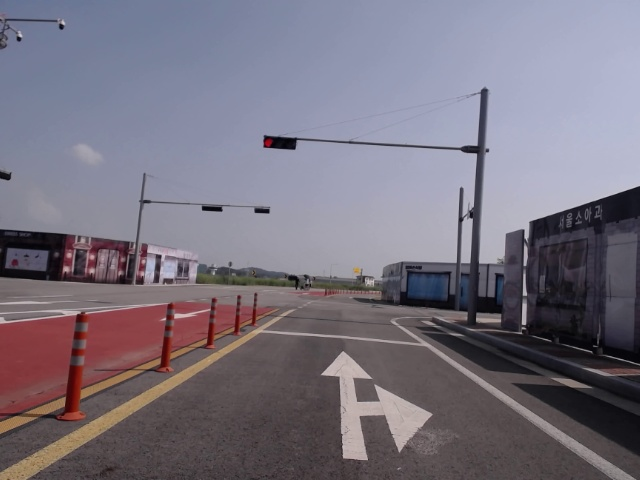red_3: (262, 135, 298, 151)
